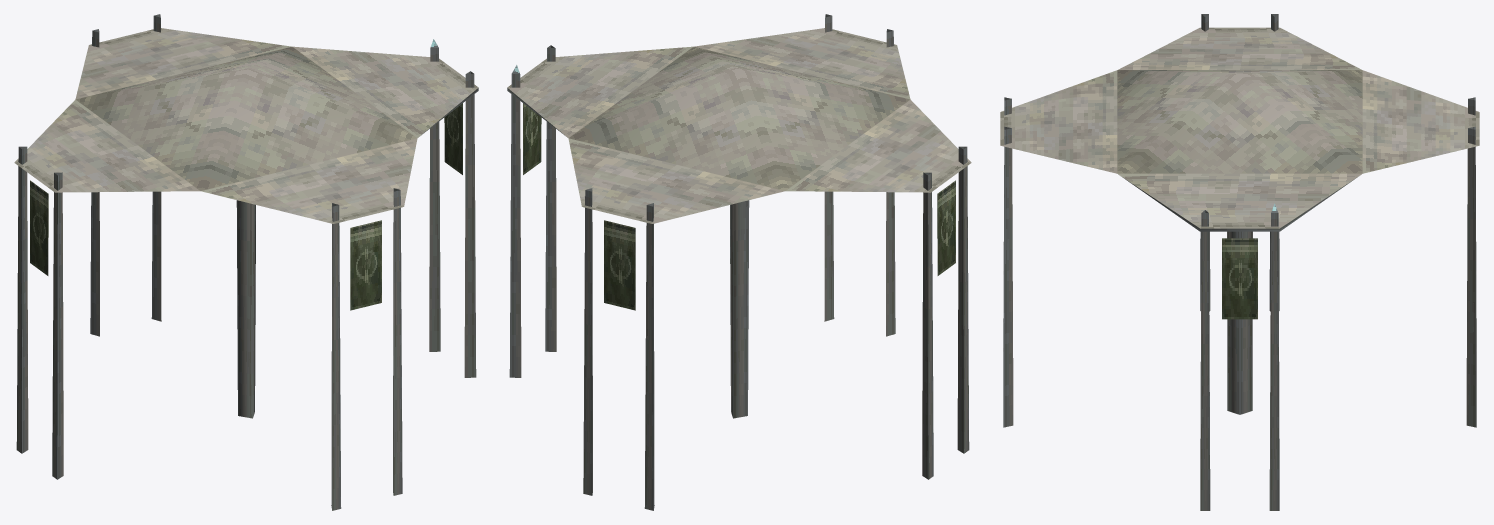
File: eqp_camping_pavilion_s2_l3.fbx
3 views of the same model, side by side, from view 1: azimuth 30°, elevation 25°; view 2: azimuth 150°, elevation 25°; view 3: azimuth 270°, elevation 25° (orthographic). The views are drawn at different scales.
Visible parts, largest first — view 1: mesh_node; view 2: mesh_node; view 3: mesh_node.
Boxes of the visible parts, x1=… form: mesh_node: x1=14, y1=14, x2=478, y2=510; mesh_node: x1=507, y1=14, x2=971, y2=510; mesh_node: x1=1000, y1=14, x2=1479, y2=510.
Size of the model in its own units: 19.5 by 15.12 by 19.5.
